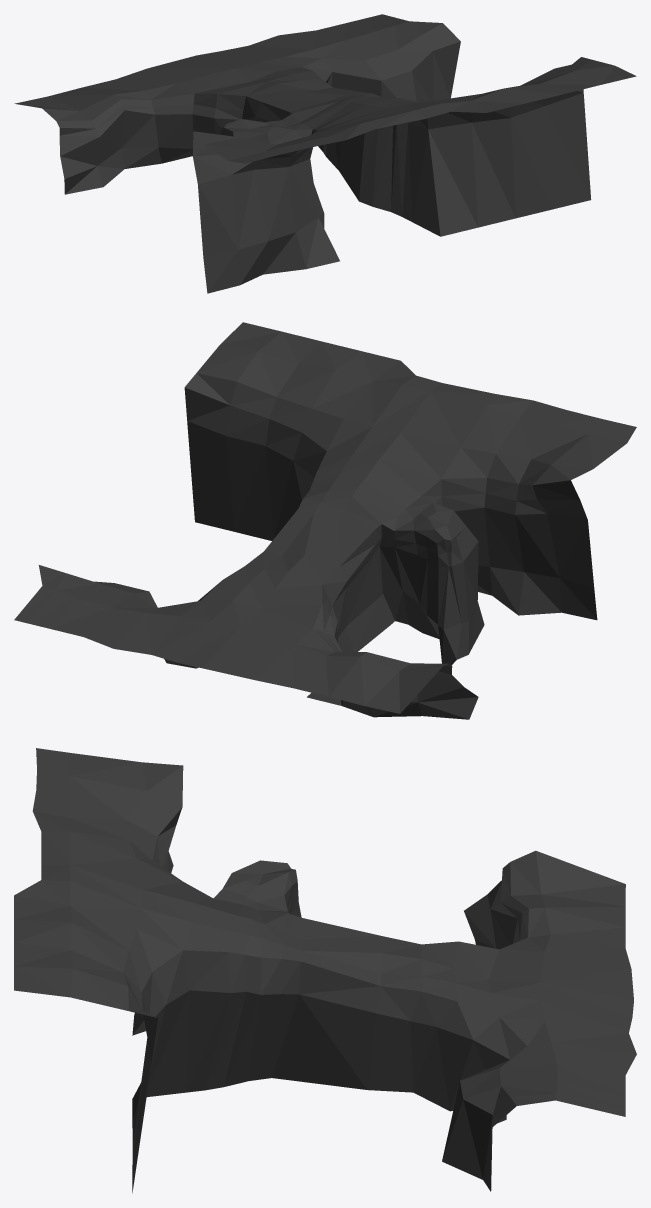
The model's file is Cave_11B_LOD_1.fbx.
The picture shows the model from 3 angles, top to bottom: view 1: azimuth 30°, elevation 25°; view 2: azimuth 150°, elevation 25°; view 3: azimuth 270°, elevation 25°; orthographic projection. The views are drawn at different scales.
Visible parts, largest first — view 1: pPlane12; view 2: pPlane12; view 3: pPlane12.
Boxes of the visible parts, left/top/right/bottom form: pPlane12: left=14, top=14, right=636, bottom=293; pPlane12: left=14, top=322, right=636, bottom=719; pPlane12: left=14, top=748, right=636, bottom=1193.
Bounding box in the file's own units: 40.66 × 16.29 × 41.64.
